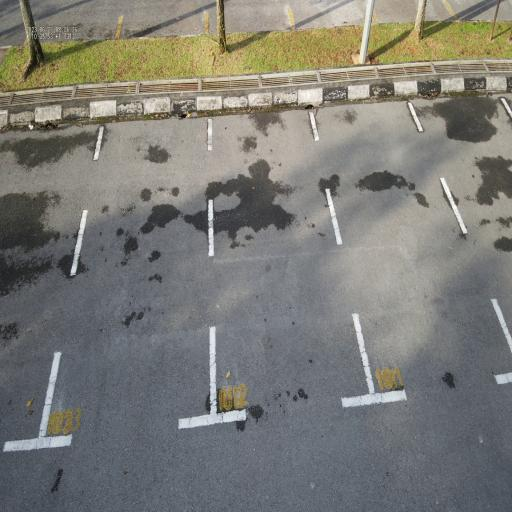Empty: (33, 108, 223, 460), (205, 104, 382, 425)
